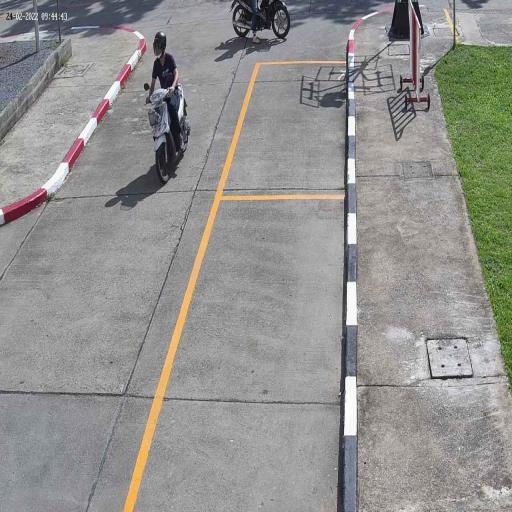motorcycle: (148, 87, 192, 182), (228, 0, 293, 41)
